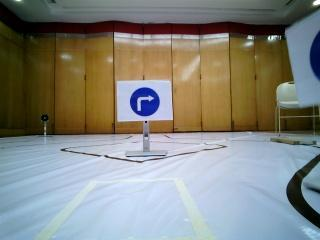right: (112, 79, 173, 120)
